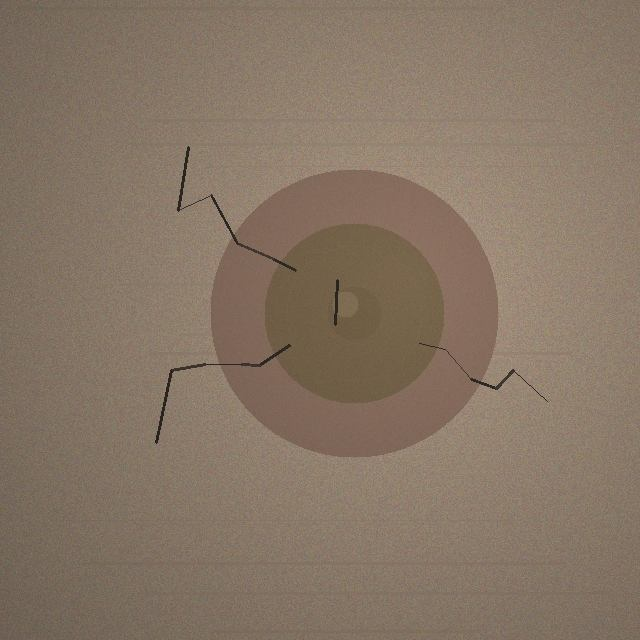crack: (210, 169, 498, 457)
